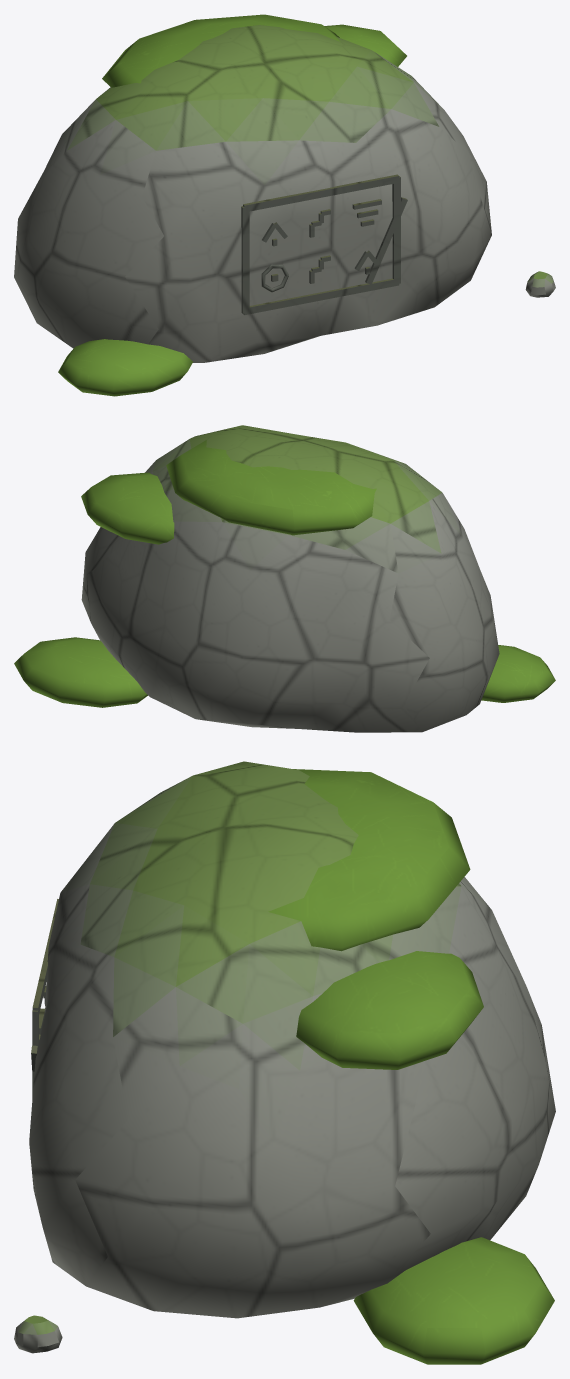
File: moss_boulder_carved.glb
3 views of the same model, one above another, from view 1: azimuth 30°, elevation 25°; view 2: azimuth 150°, elevation 25°; view 3: azimuth 270°, elevation 25° (orthographic). The views are drawn at different scales.
Parts seen in each view (by area): view 1: moss_boulder_carved; view 2: moss_boulder_carved; view 3: moss_boulder_carved.
Part boxes in pixels (<box>): moss_boulder_carved: <box>14,14,555,396</box>; moss_boulder_carved: <box>14,425,555,732</box>; moss_boulder_carved: <box>14,761,555,1364</box>.
Bounding box in the file's own units: 2.81 × 1.54 × 1.88.
Materials: 3 (3 with a texture image).
